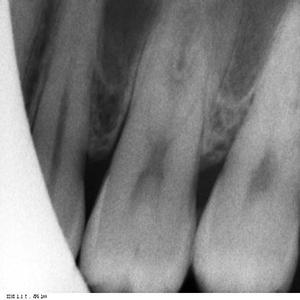tooth: (85, 0, 243, 284), (195, 0, 300, 288)
